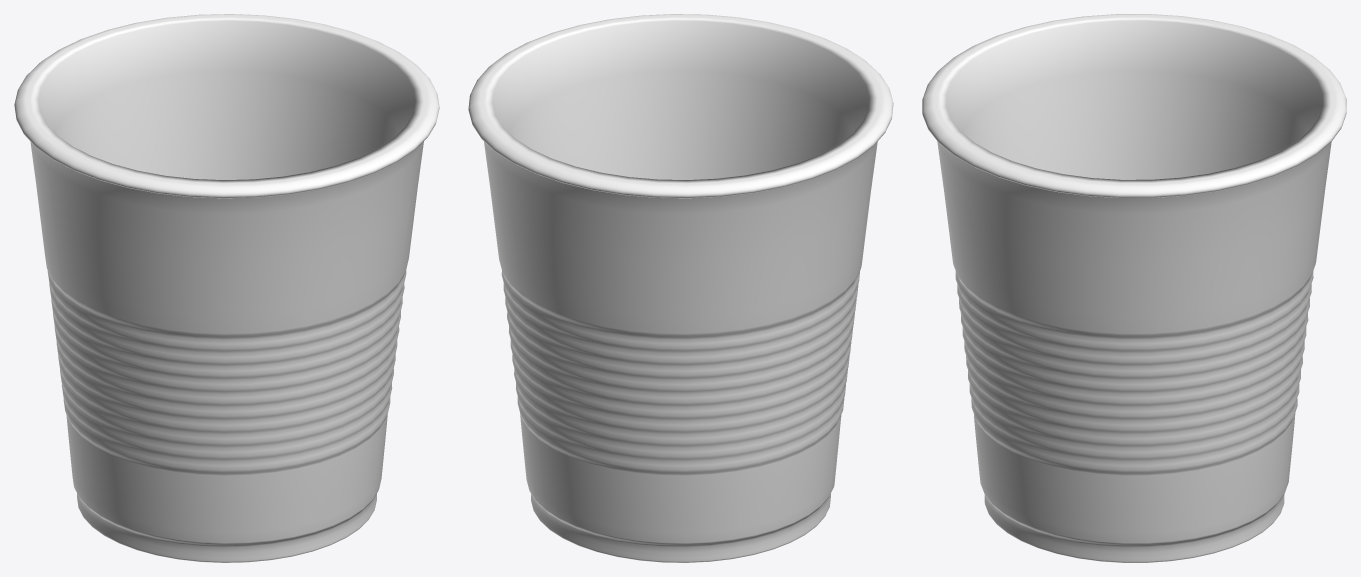
File: plastic_disposable_cup.glb
3 views of the same model, side by side, from view 1: azimuth 30°, elevation 25°; view 2: azimuth 150°, elevation 25°; view 3: azimuth 270°, elevation 25° (orthographic).
Visible parts, largest first — view 1: Plastic_Cup_hi; view 2: Plastic_Cup_hi; view 3: Plastic_Cup_hi.
Part boxes in pixels (<box>): Plastic_Cup_hi: <box>14,14,439,562</box>; Plastic_Cup_hi: <box>468,14,893,562</box>; Plastic_Cup_hi: <box>922,14,1346,562</box>.
Bounding box in the file's own units: 13.68 × 14.24 × 13.68.
1 material, 1 textured.
